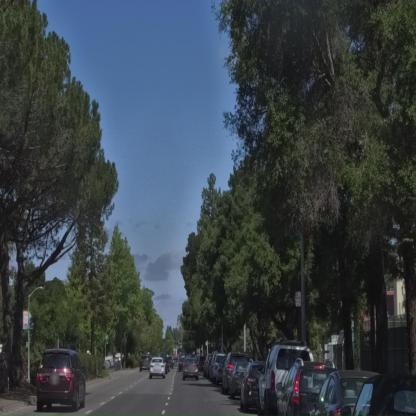car: (258, 342, 316, 416), (309, 369, 383, 416), (278, 362, 340, 416), (36, 349, 88, 413), (240, 363, 266, 415), (224, 355, 253, 398), (211, 353, 227, 384), (182, 359, 200, 382), (148, 357, 166, 376)
